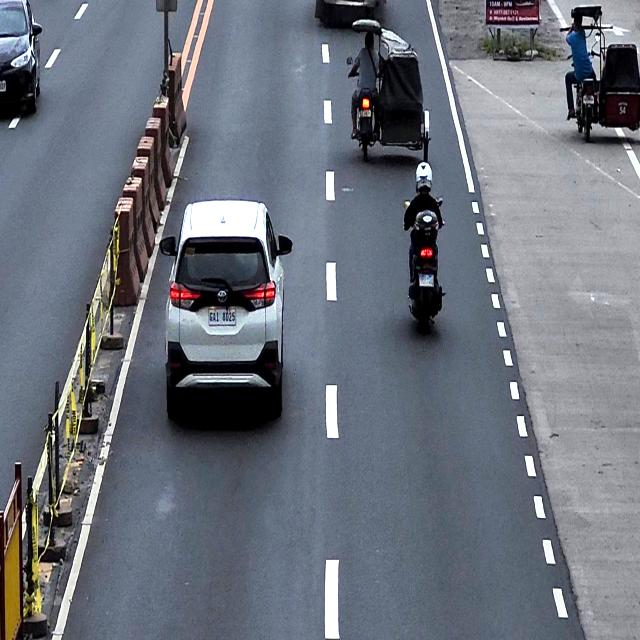Car: (159, 198, 292, 418), (0, 0, 42, 112)
License-Plate: (207, 306, 238, 328), (418, 272, 435, 288), (583, 93, 595, 106), (359, 108, 372, 119), (0, 80, 7, 92)
Motorcycle: (403, 196, 446, 326)
Tricycle: (346, 18, 431, 163), (567, 5, 640, 142)
